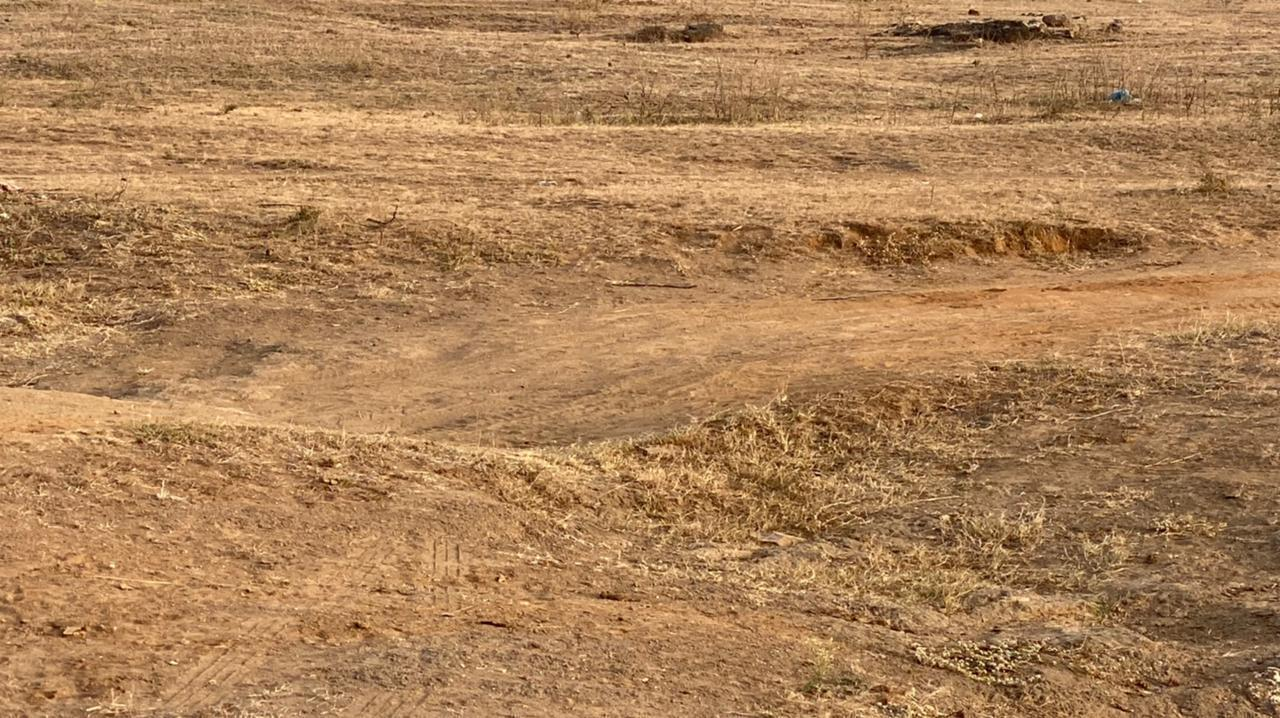vehicle_track: (199, 268, 1280, 449)
